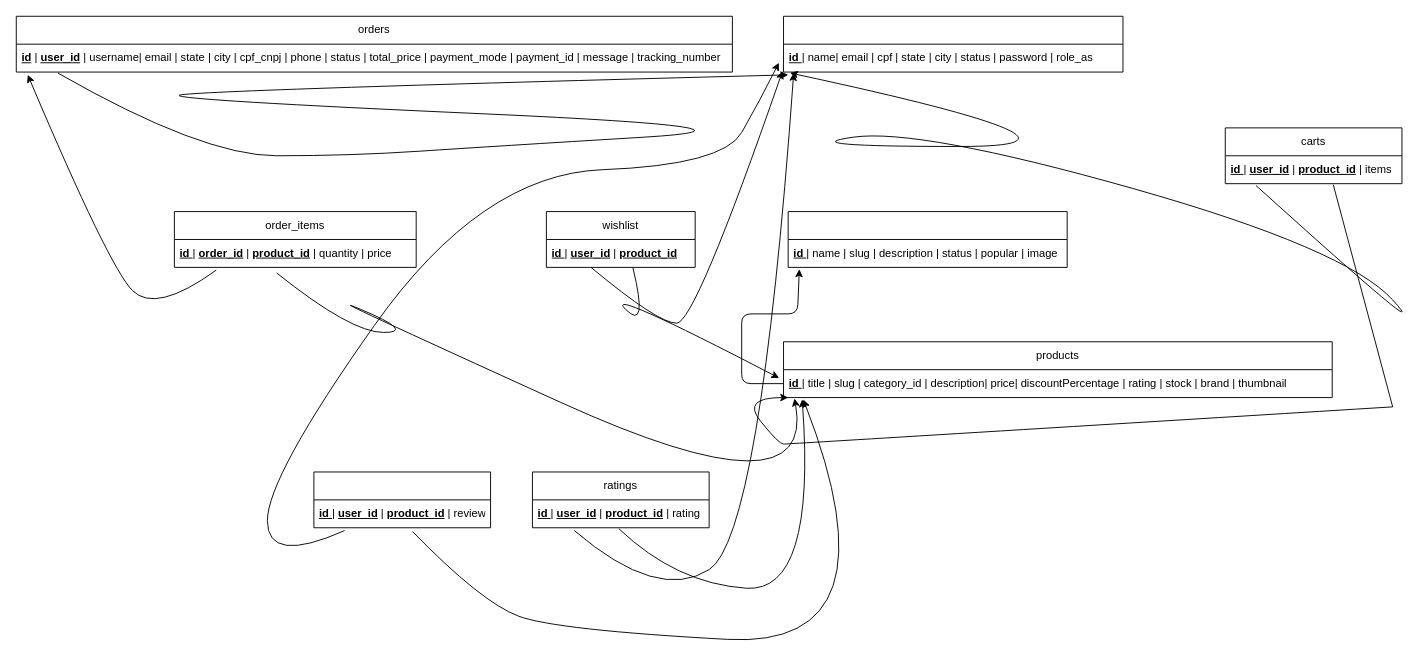
The diagram is 1419 pixels wide and 657 high, and some of its shapes have lost their labels. Each missing label, with the box of its shape:
categories: (787, 211, 1067, 267)
reviews: (313, 471, 491, 528)
users: (783, 15, 1123, 72)
